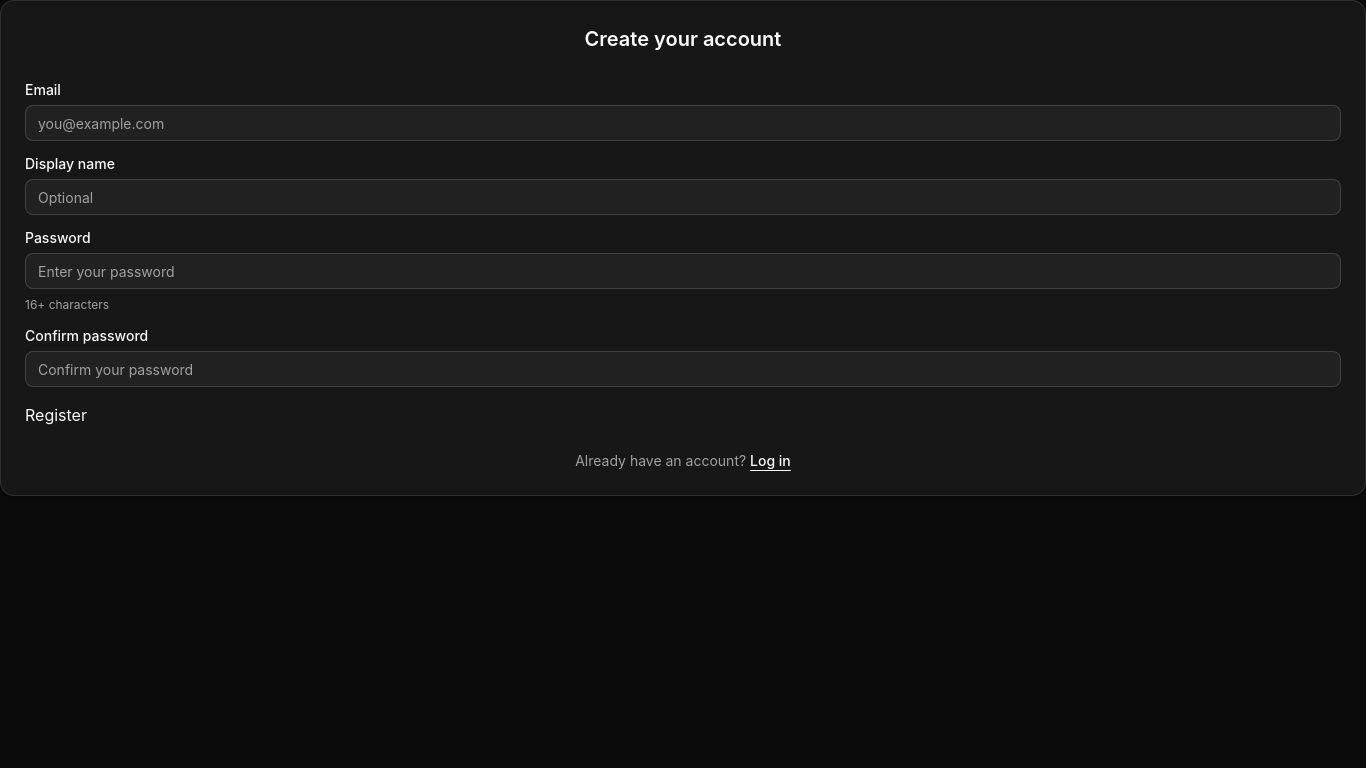
RegisterView › form submission › shows error when auto-login fails after registration
This screenshot has width=1366, height=768.
Type "user@example.com" into the field labelled "Email" at (683, 123), box [25,105,1341,141]
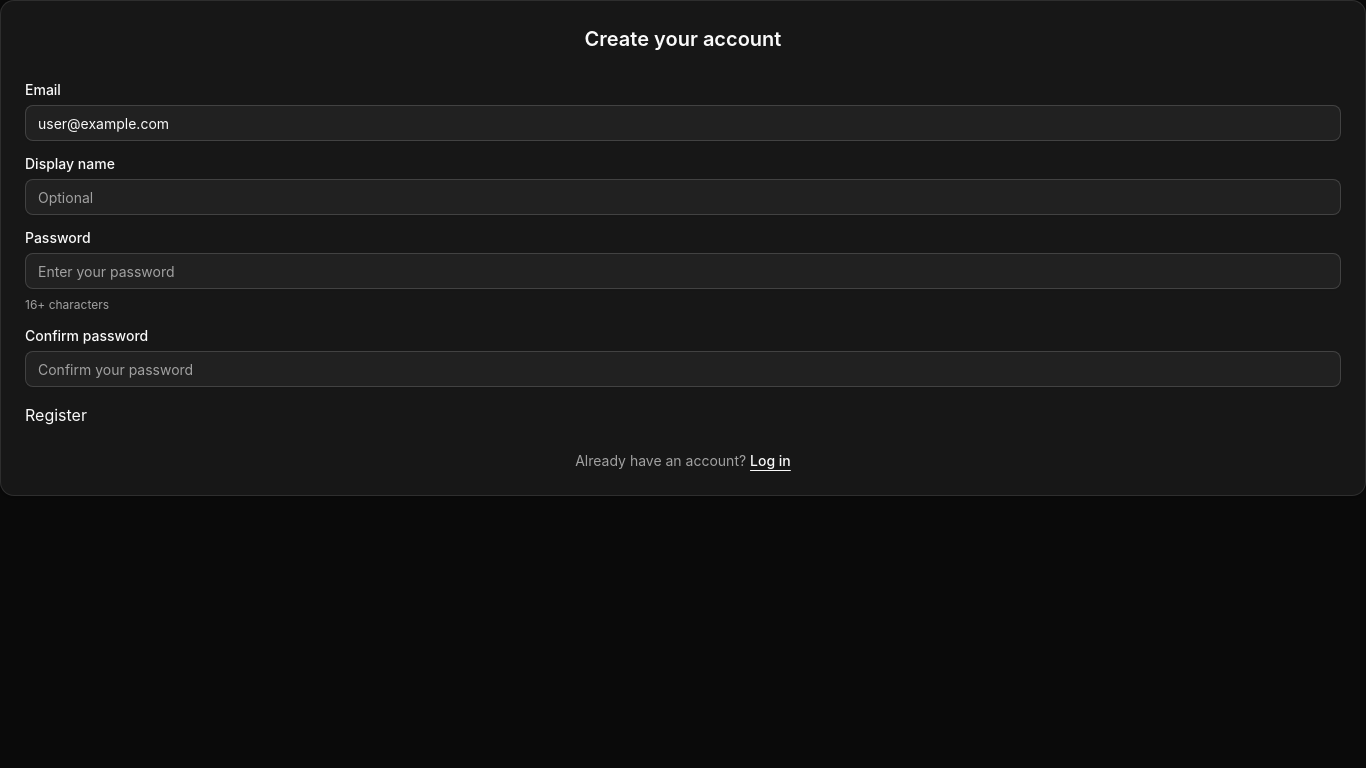
Type "abcdefghijklmnop" into the password field labelled "Password" at (683, 271), box [25,253,1341,289]
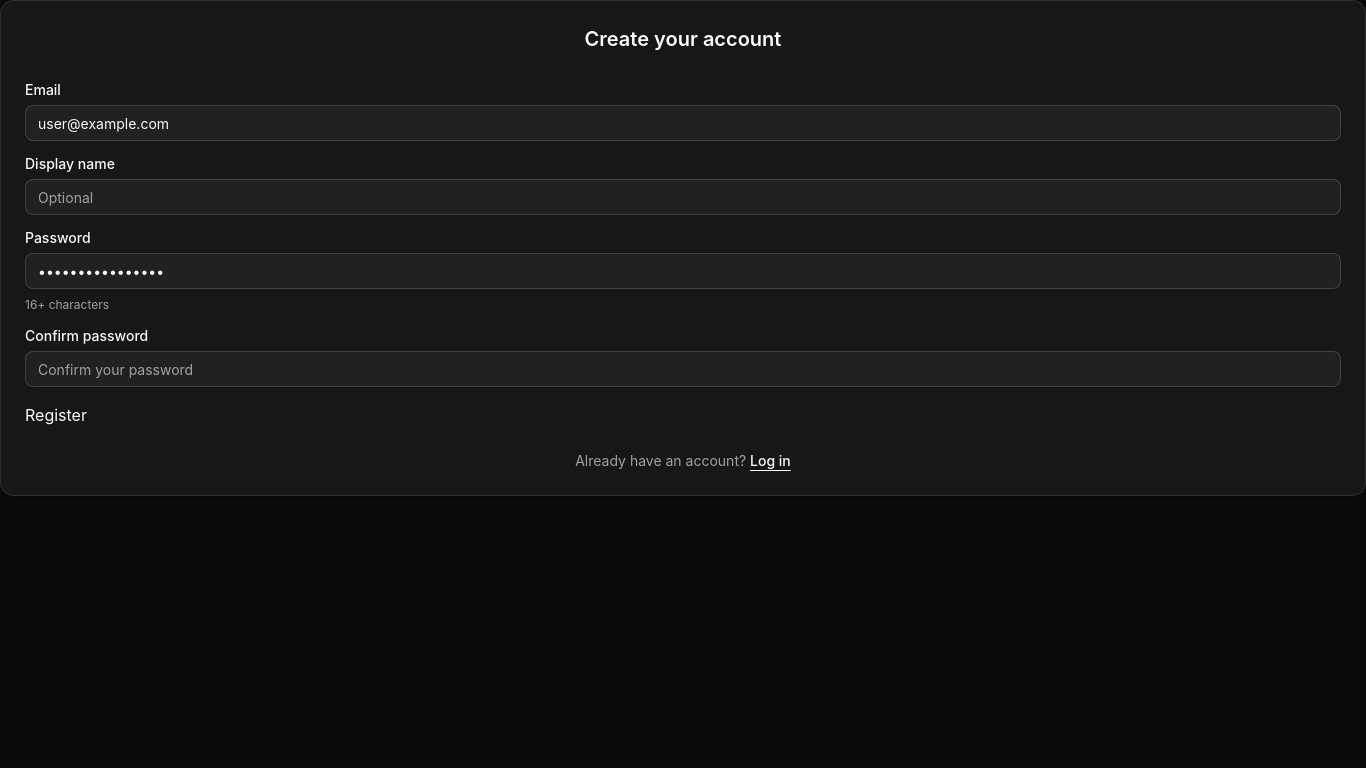
Type "abcdefghijklmnop" into the password field with id "confirm-password" at (683, 369), box [25,351,1341,387]
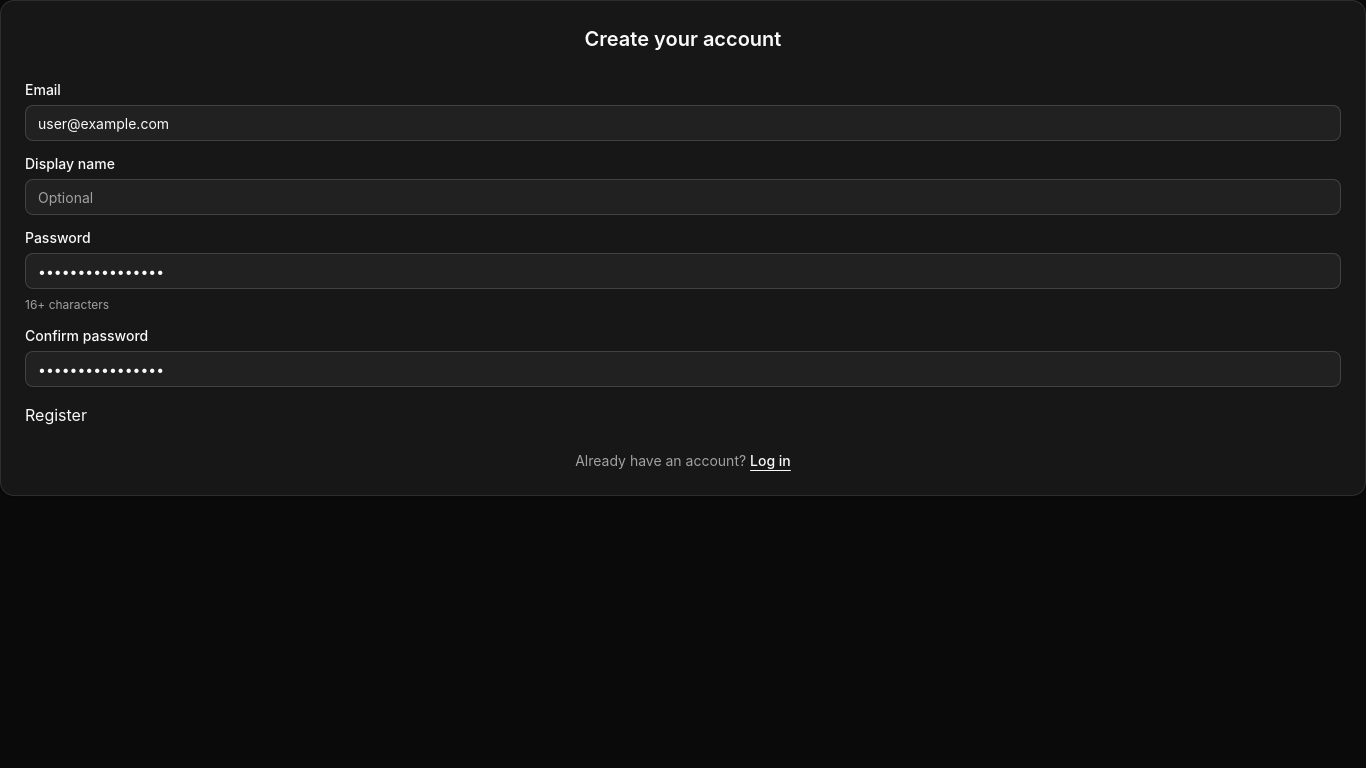
Submit the form, box [25,83,1341,427]
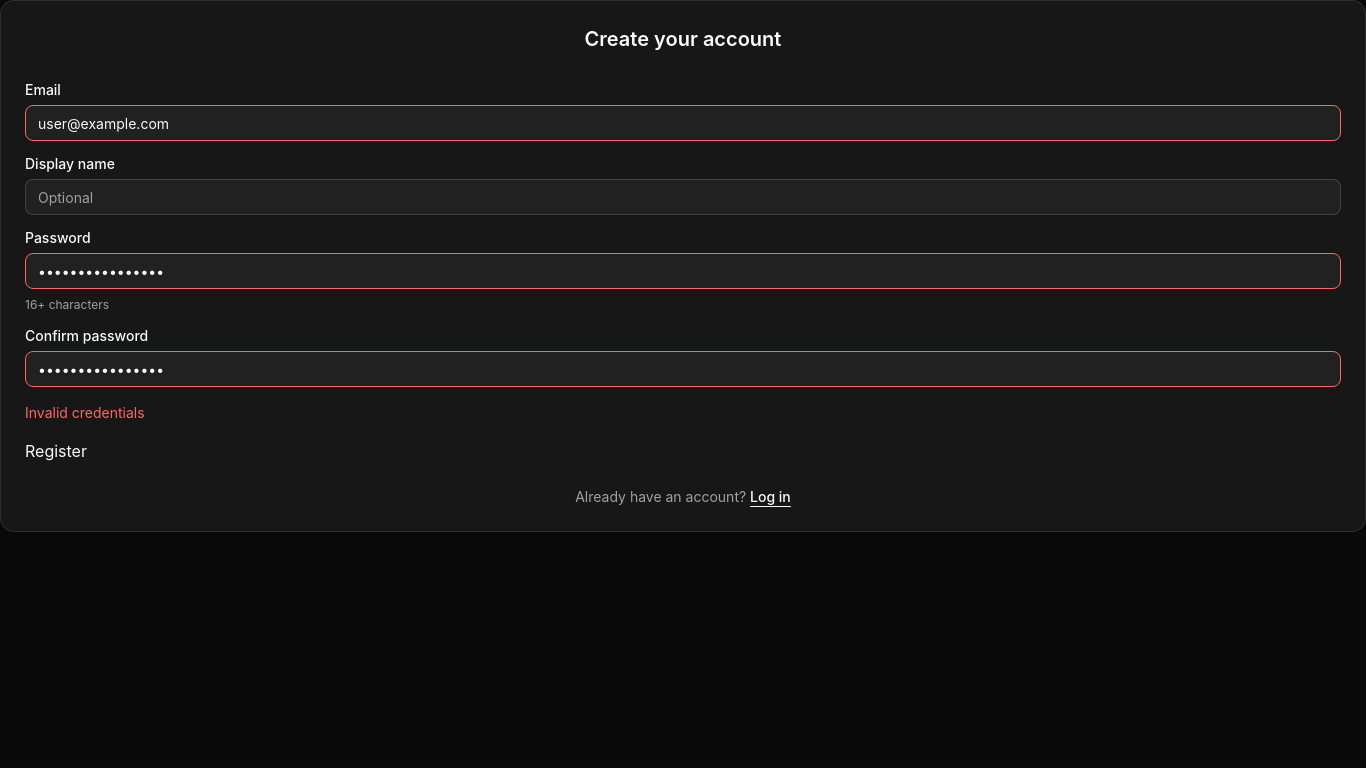
Expected: the text "Invalid credentials" is shown, [25,404,145,421]
